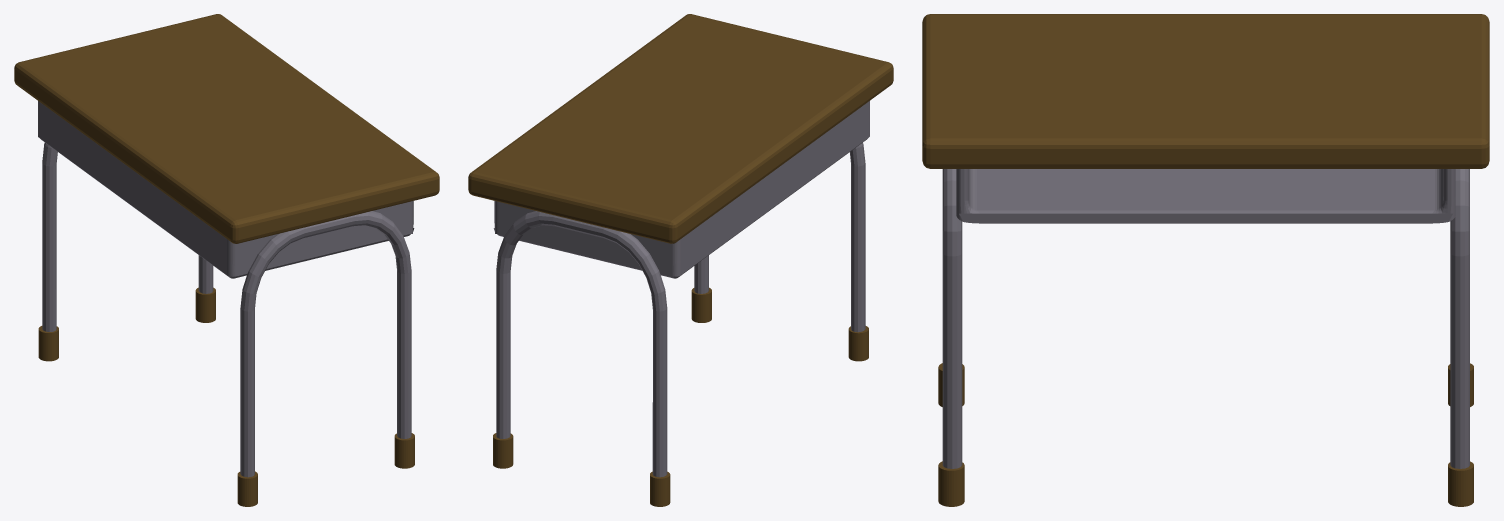
Rendered from Desk.fbx.
3 renders of one model, left to right at view 1: azimuth 30°, elevation 25°; view 2: azimuth 150°, elevation 25°; view 3: azimuth 270°, elevation 25°, orthographic. The views are drawn at different scales.
Visible parts, largest first — view 1: Cube.001; view 2: Cube.001; view 3: Cube.001.
Boxes of the visible parts, bbox=[...] form: Cube.001: bbox=[14, 14, 439, 506]; Cube.001: bbox=[468, 14, 893, 506]; Cube.001: bbox=[922, 14, 1489, 506].
Bounding box in the file's own units: 1.54 × 2.07 × 2.83.
